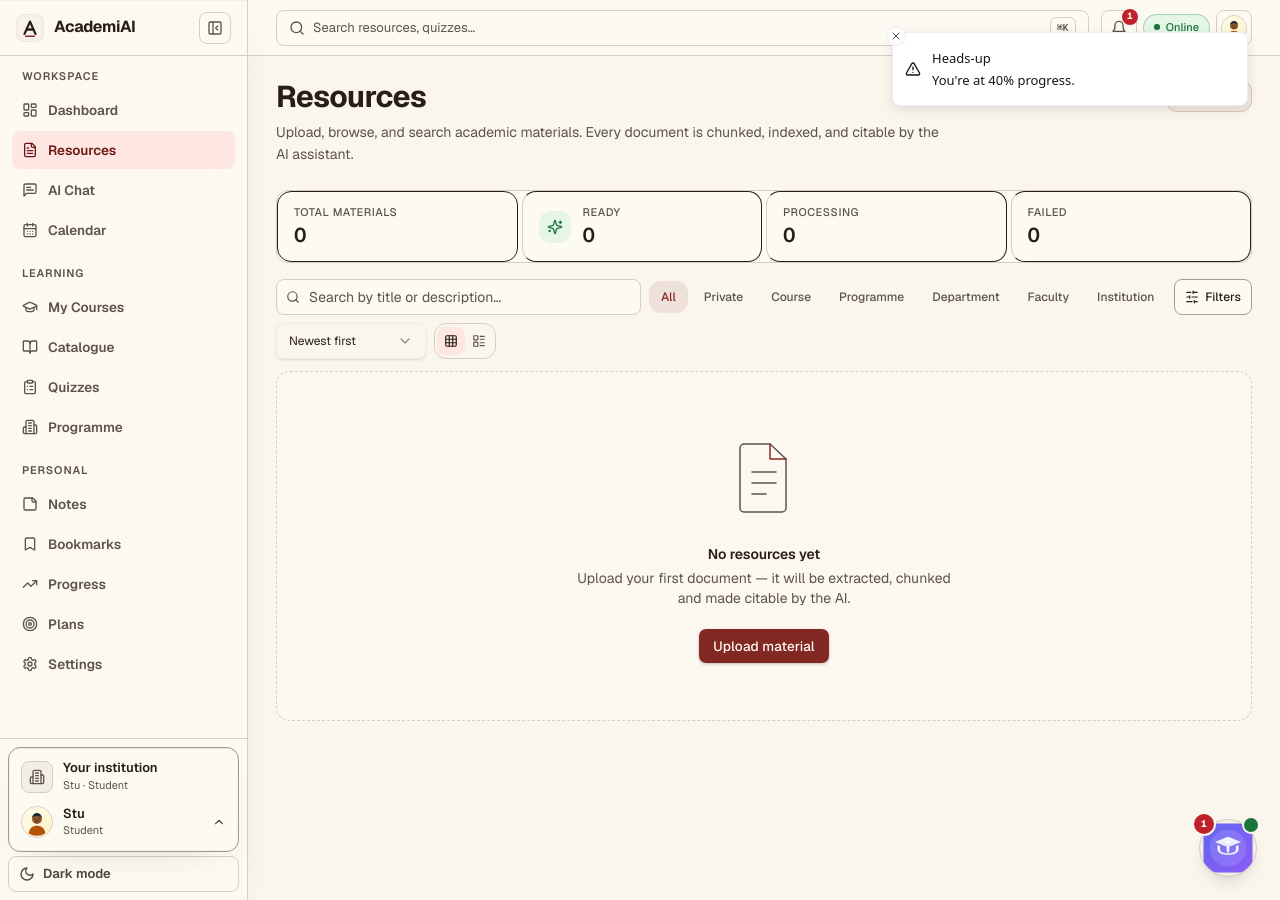
notification inbox › leaves alerts unread when the agent panel opens
Expected: the button named "notifications" reads "1", [1101, 10, 1137, 46]
Click the button named "open ai agent" at (1228, 848), box [1200, 820, 1256, 876]
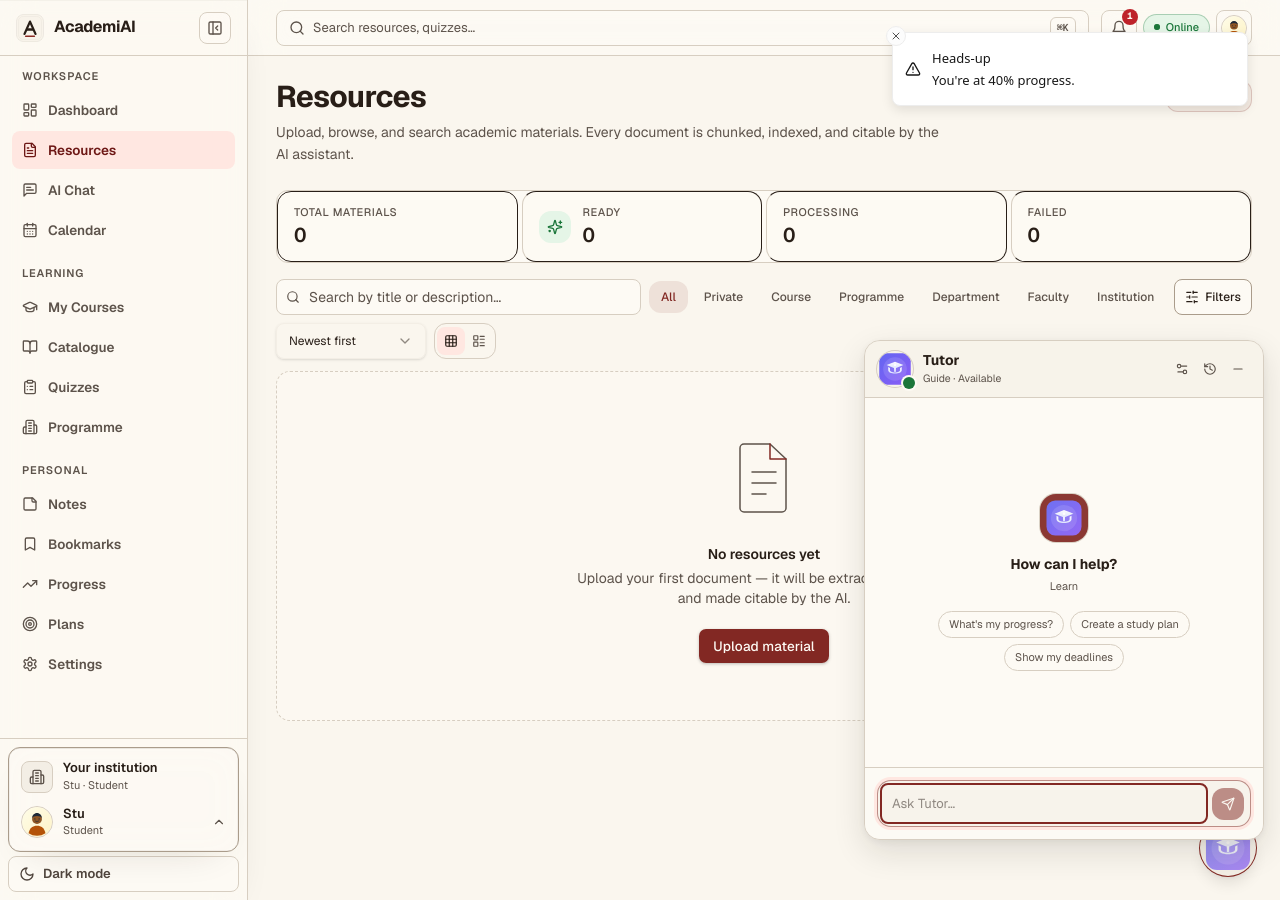
Expected: the button named "notifications" reads "1", [1101, 10, 1137, 46]
Expected: the button named "close ai agent" is shown, [1200, 820, 1256, 876]
